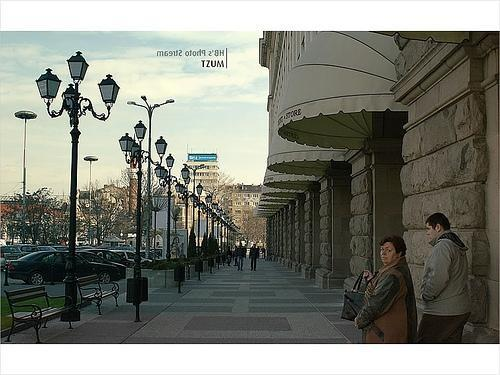car: (4, 250, 127, 284), (83, 249, 134, 268), (0, 245, 24, 272), (113, 250, 154, 262), (15, 244, 56, 253), (140, 249, 161, 259)
